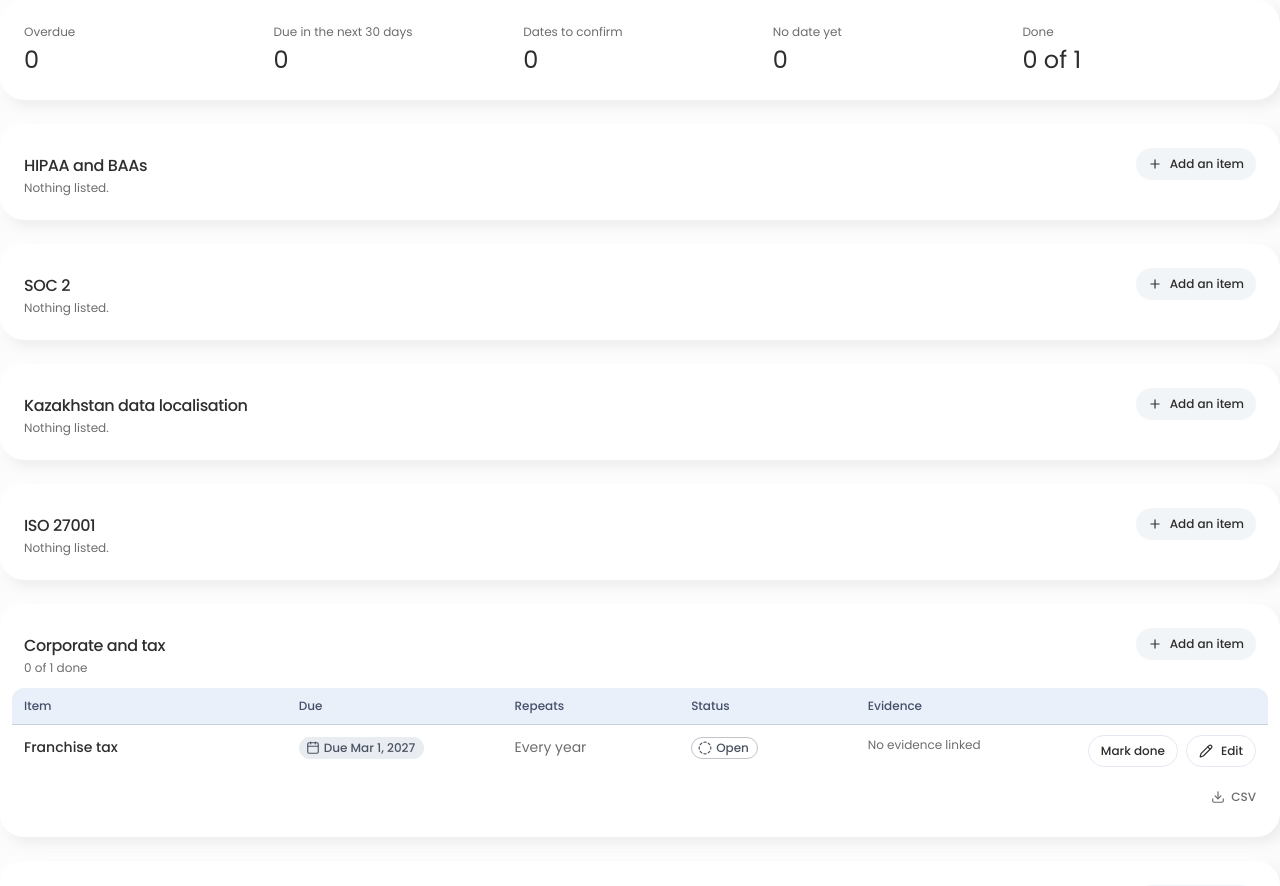
Test: ObligationList: acting on an item › a repeating item asks first, naming the date it will schedule
Click the button with aria-label "Mark Franchise tax done". click: (1133, 751)
box: [1088,735,1178,767]
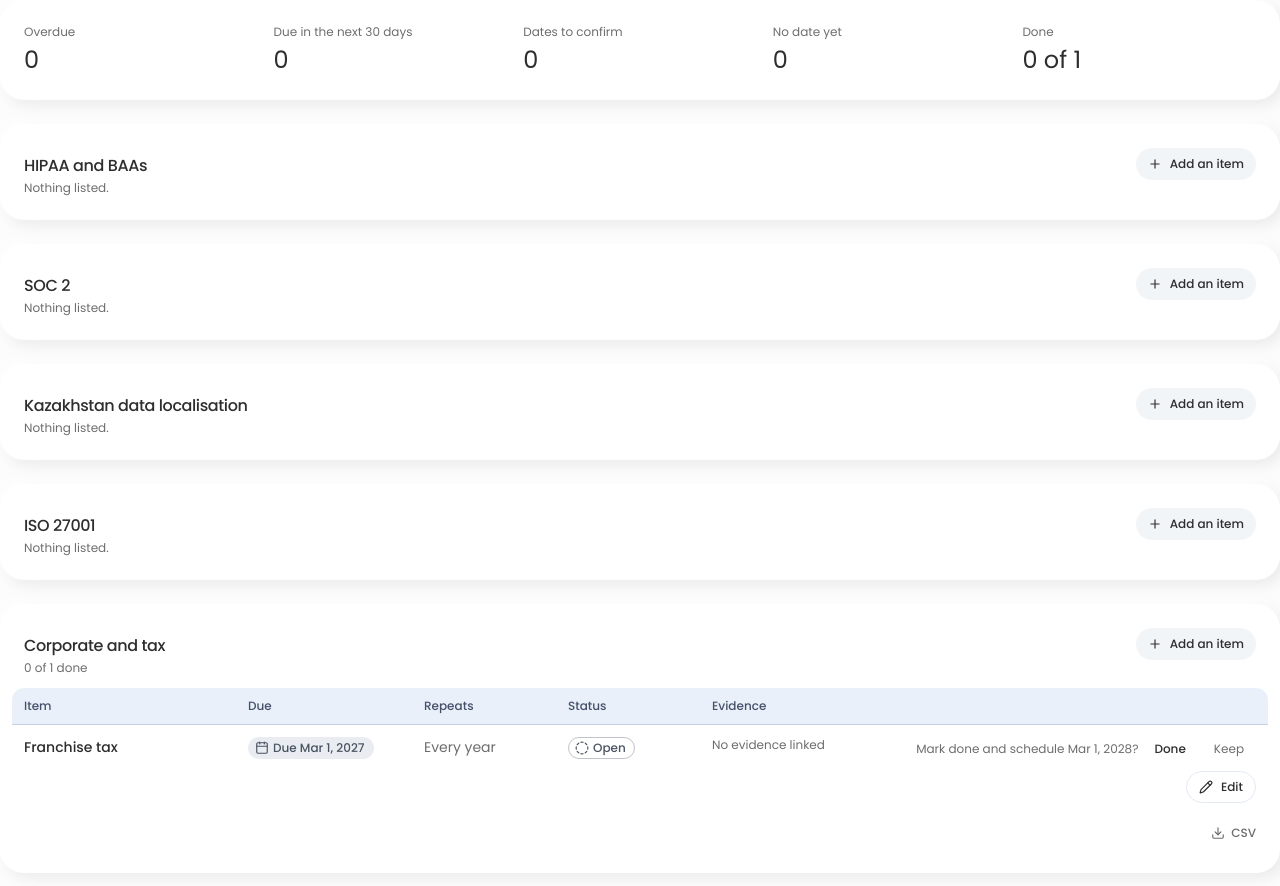
Result: the text "Mark done and schedule Mar 1, 2028?" is shown at [916,740,1138,757]
Click the button "Done". click: (1170, 749)
box: [1142,735,1198,763]
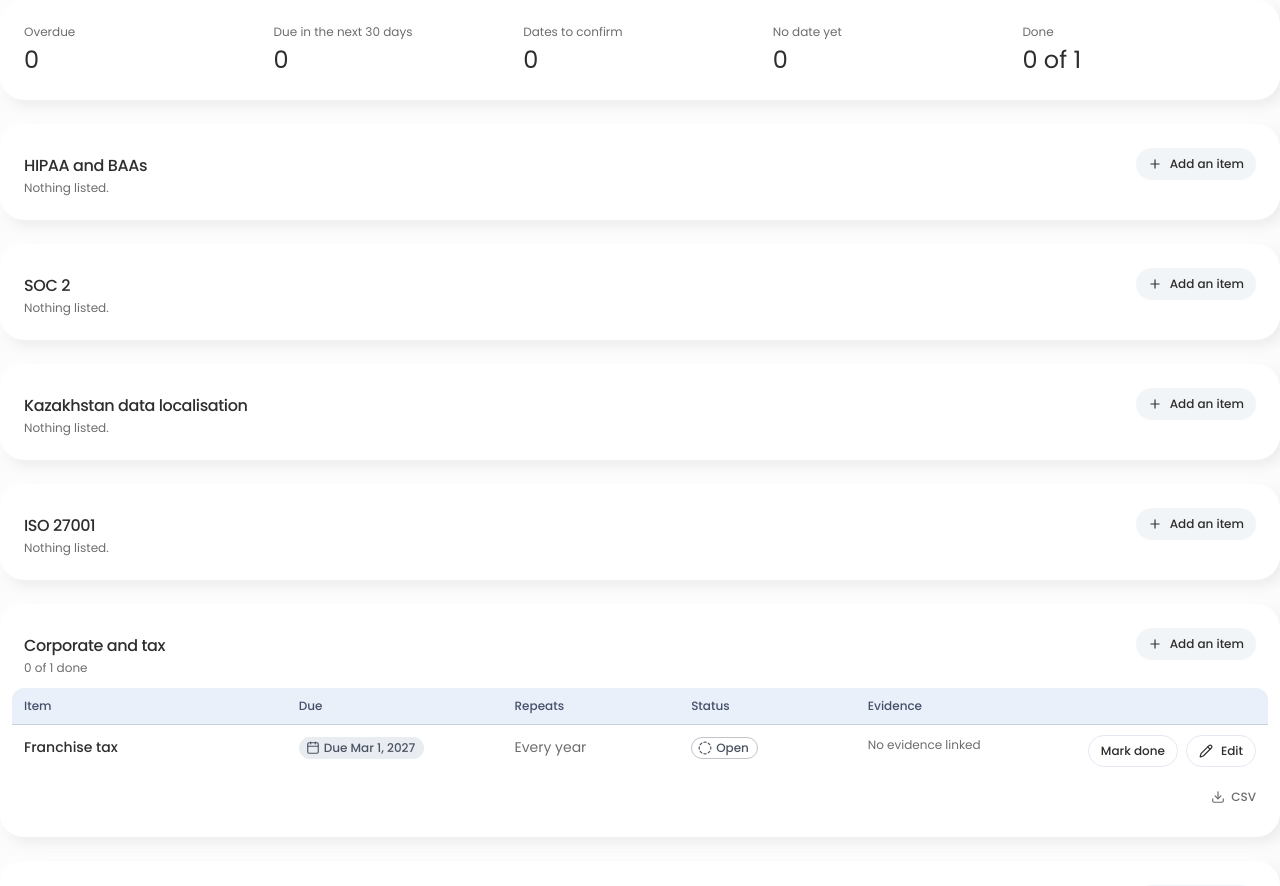
Result: the text "Mark done and schedule" is gone
